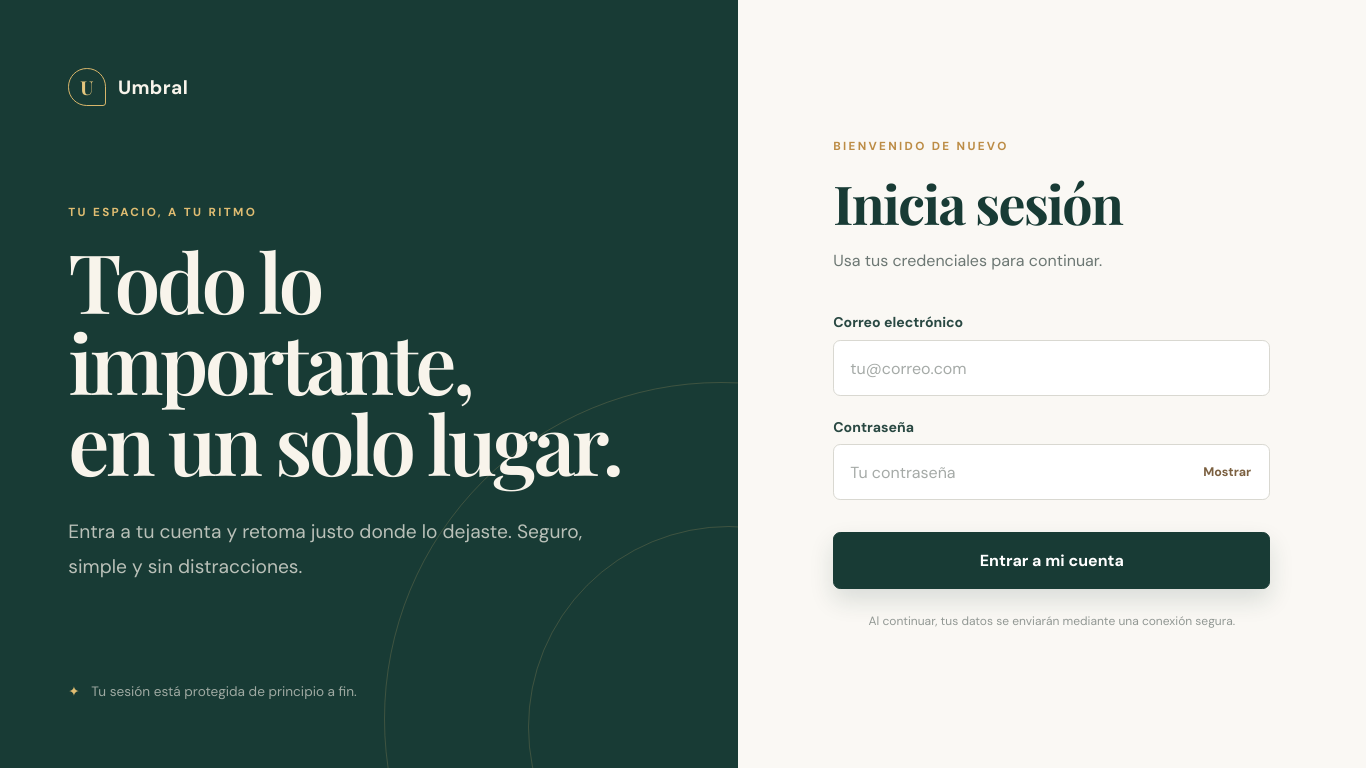
Test case: App › inicia sesión y muestra la cuenta autenticada
The width and height of the screenshot is (1366, 768).
Expected: the heading "Inicia sesión" is shown, [833,167,1122,238]
In the field labelled "Correo electrónico": (1052, 368) [833,340,1270,396], type "ana@example.com"
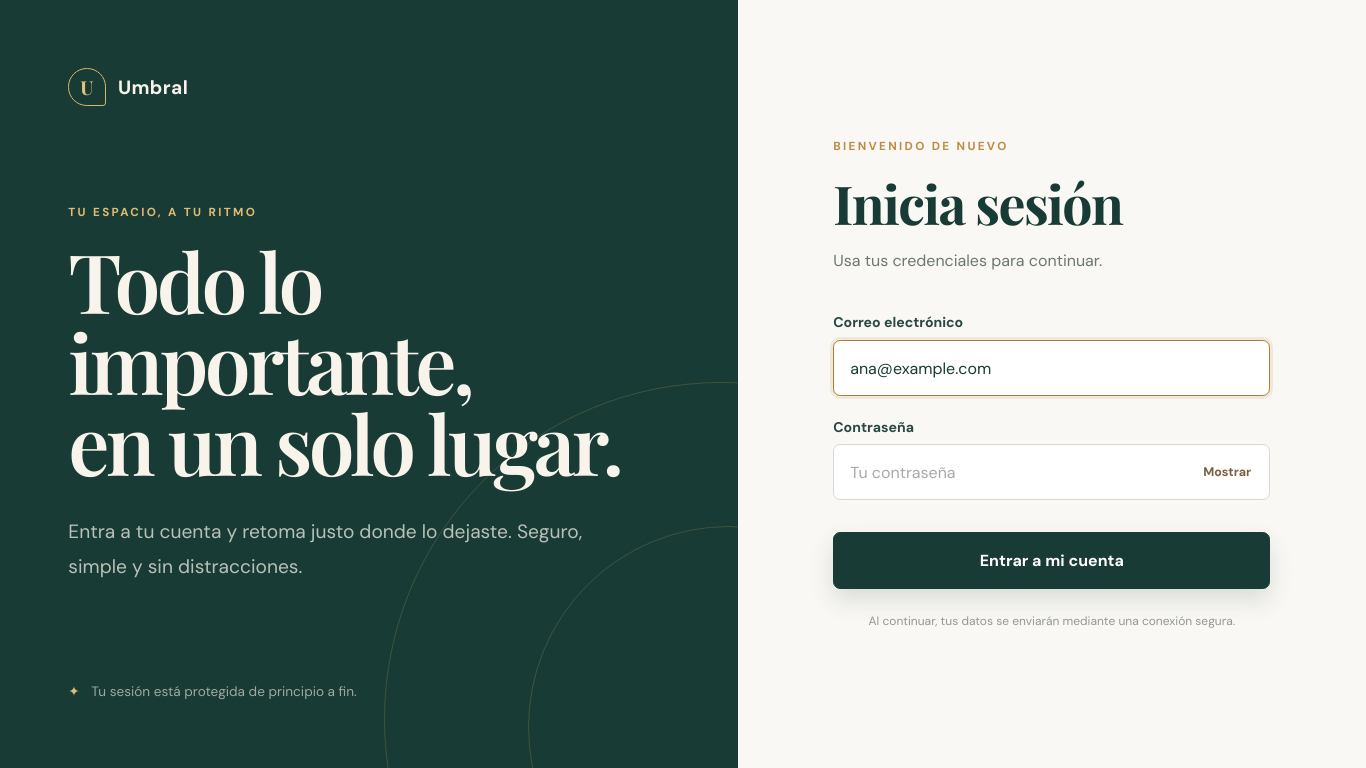
In the password field labelled "Contraseña": (1052, 472) [833,444,1270,500], type "clave-segura"
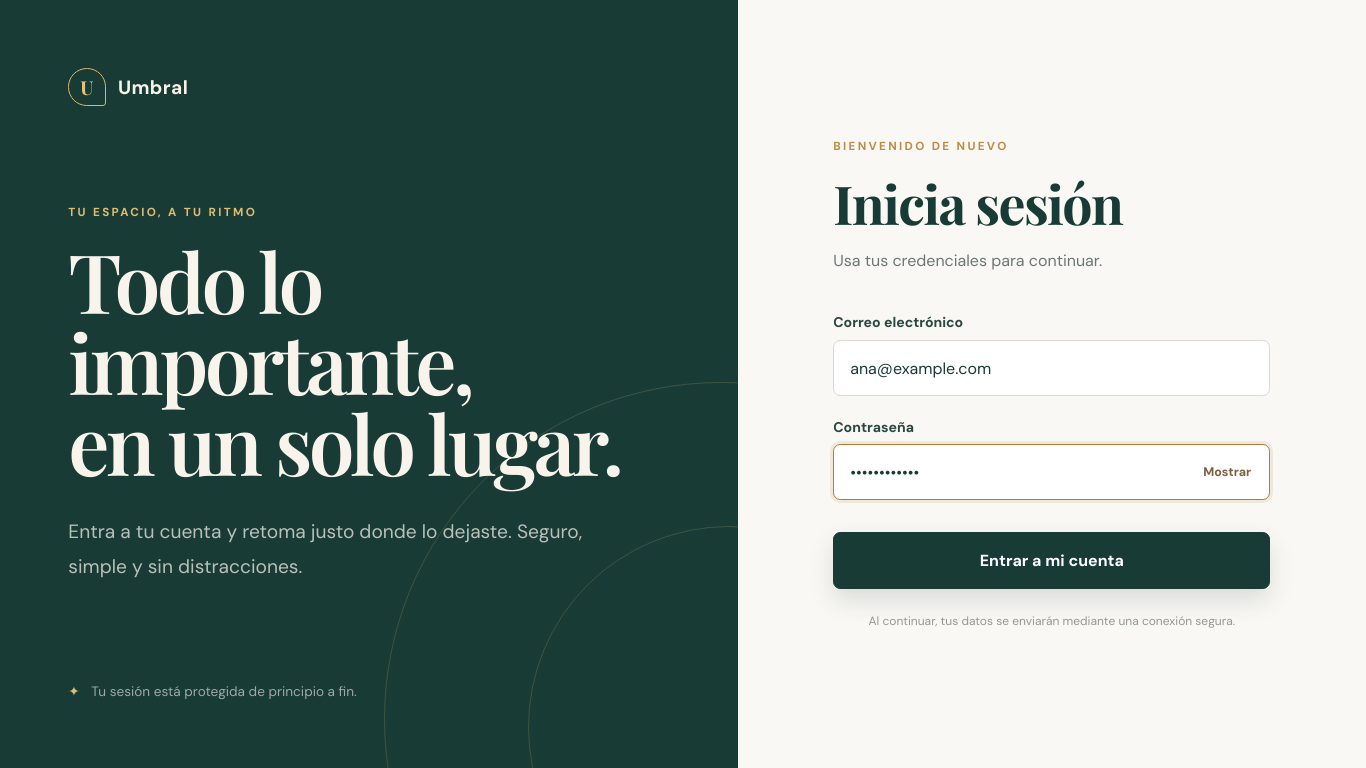
Click the button "Entrar a mi cuenta": (1052, 561) [833,532,1270,589]
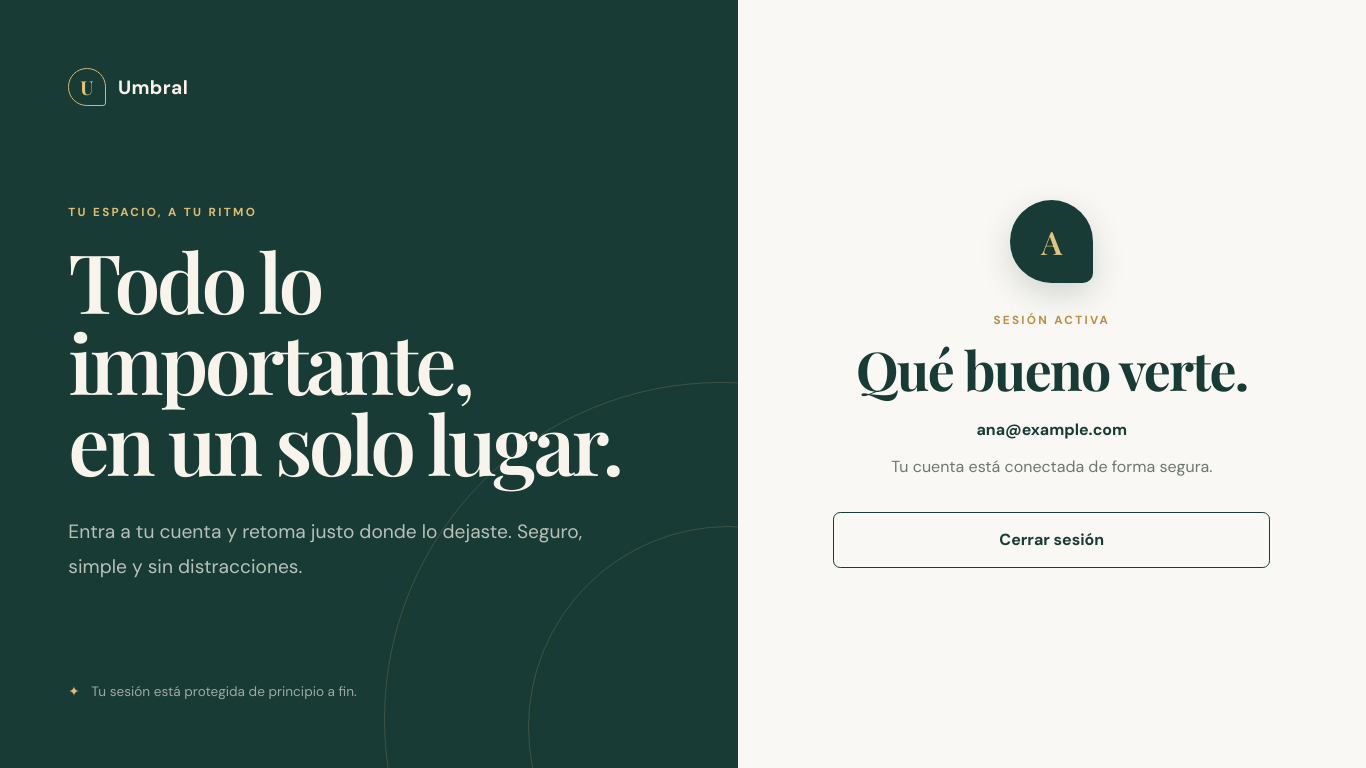
Result: the text "ana@example.com" is shown at [976,419,1127,440]
Result: the heading "Qué bueno verte." is shown at [833,340,1270,399]
